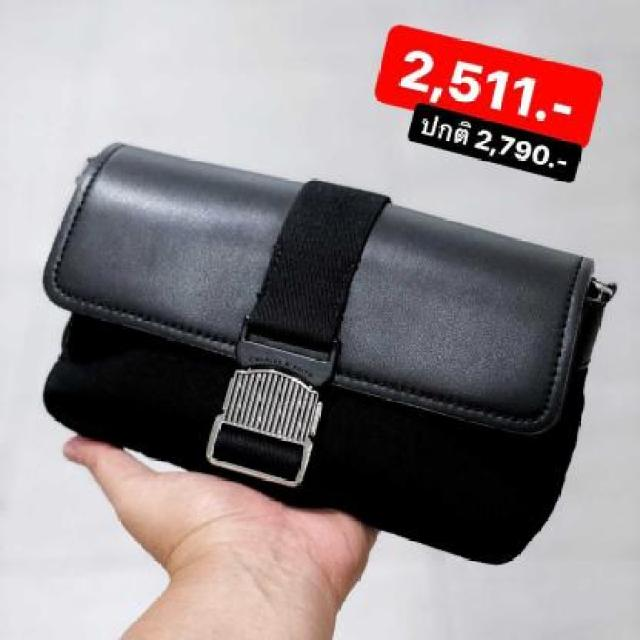Bag: (17, 138, 626, 611)
